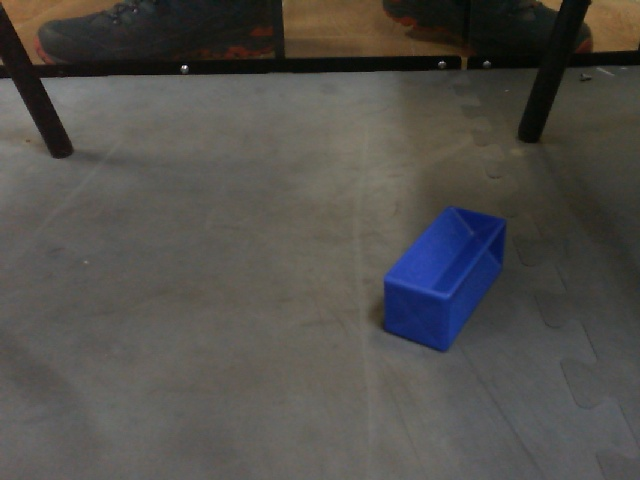BlueSample: (379, 201, 511, 357)
